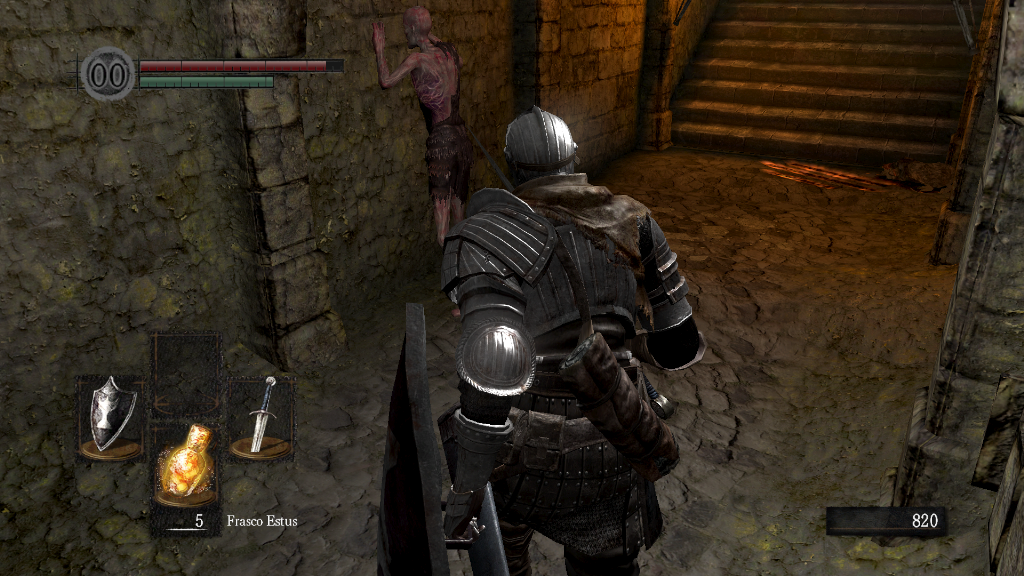health: (138, 58, 343, 71)
hollow: (369, 6, 470, 249)
humanity: (80, 45, 136, 102)
player: (375, 105, 709, 576)
souls: (825, 506, 945, 536)
stamina: (138, 74, 274, 88)
